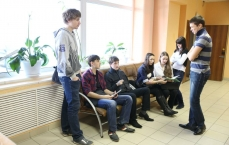students: (52, 8, 95, 144), (83, 54, 137, 142), (178, 15, 213, 136), (104, 55, 155, 127), (138, 53, 177, 119), (156, 51, 181, 116), (169, 36, 189, 110)
